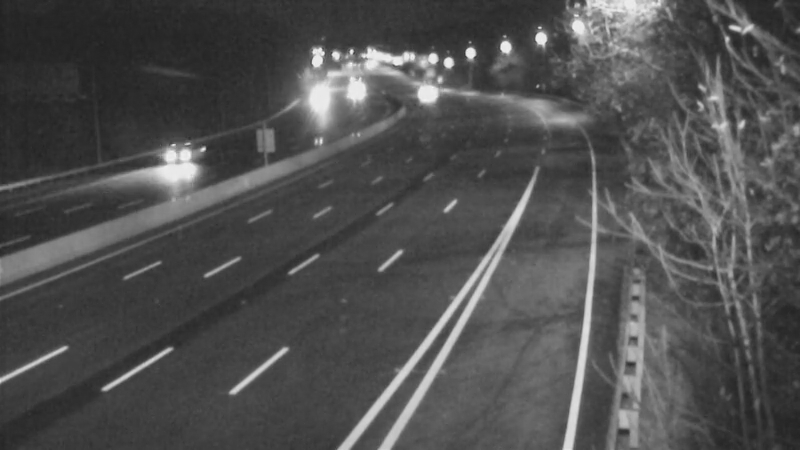vehicle: (394, 65, 444, 115), (160, 122, 210, 172), (290, 75, 340, 125), (329, 65, 379, 115)
